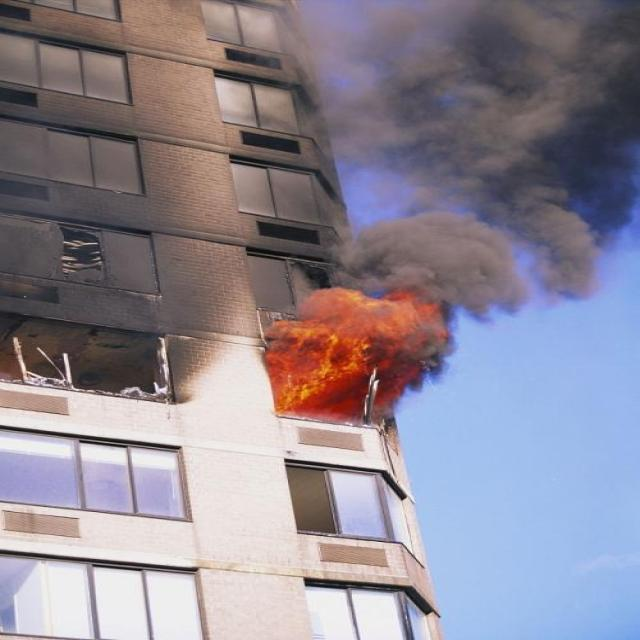Fire: (260, 284, 456, 422)
Smoke: (260, 1, 640, 330)
